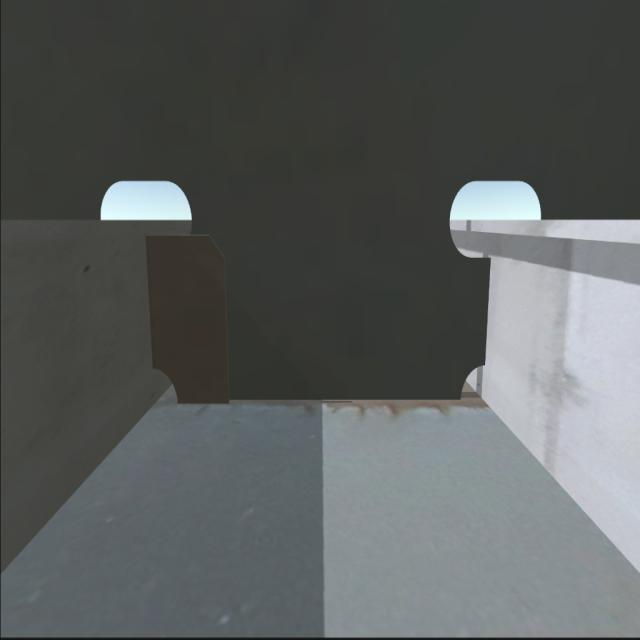fillet_hole: (454, 360, 493, 407), (148, 368, 185, 408)
fillet_yong_jeop_jang: (174, 388, 460, 412)
longi_yong_jeop_jang: (141, 233, 162, 366), (477, 254, 500, 370)
plate_CP03: (144, 238, 229, 399)
